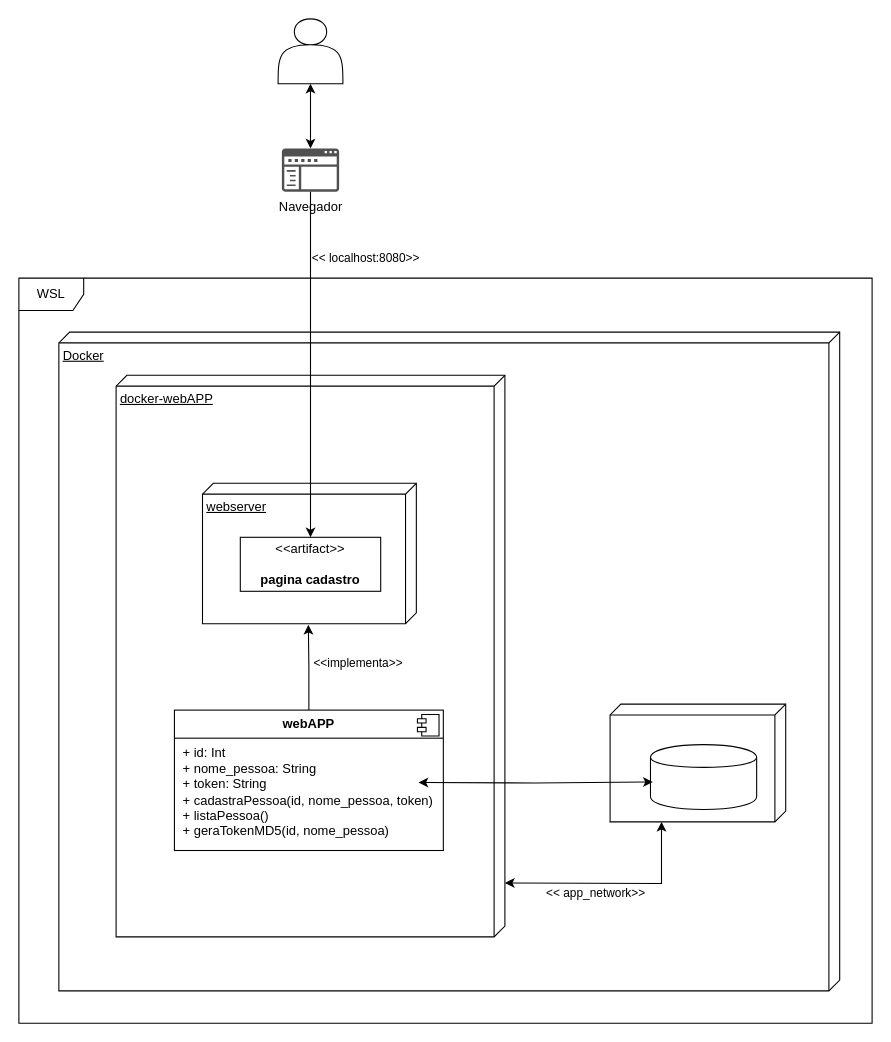
Image size: 891x1042. Some labels were removed from this diagram. The shapes that lost their labels are listed below. From the top down, each one's box as (x1, y1, x2, y2) in pixels, then its label:
(277, 18, 343, 84): Usuario
(609, 703, 786, 822): docker-mongodb
(649, 744, 757, 809): MongoDB
